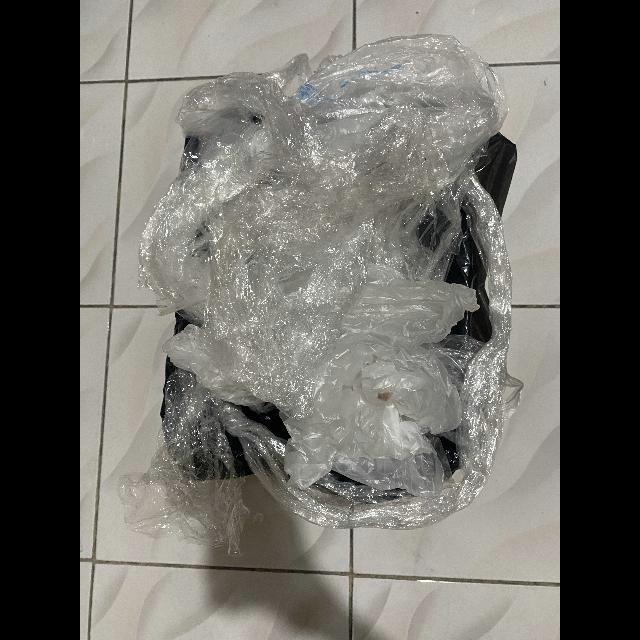plastic_bag: (119, 179, 513, 552), (138, 34, 507, 317), (195, 184, 390, 406), (283, 279, 480, 497)
